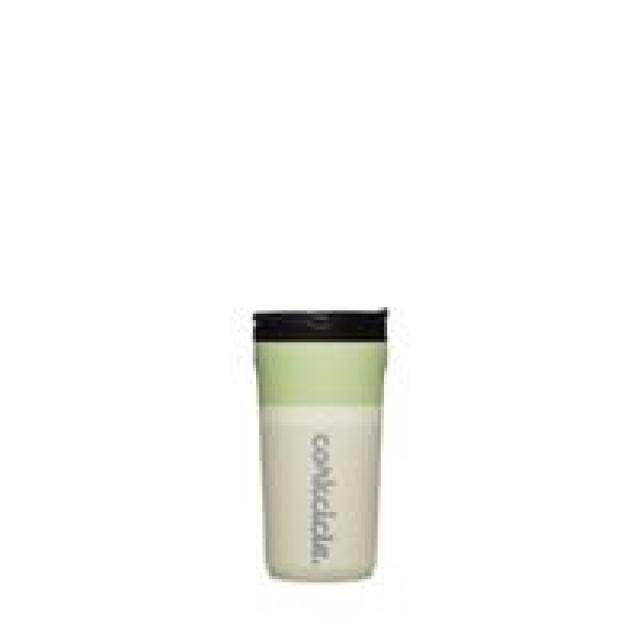bottle: (250, 310, 390, 586)
